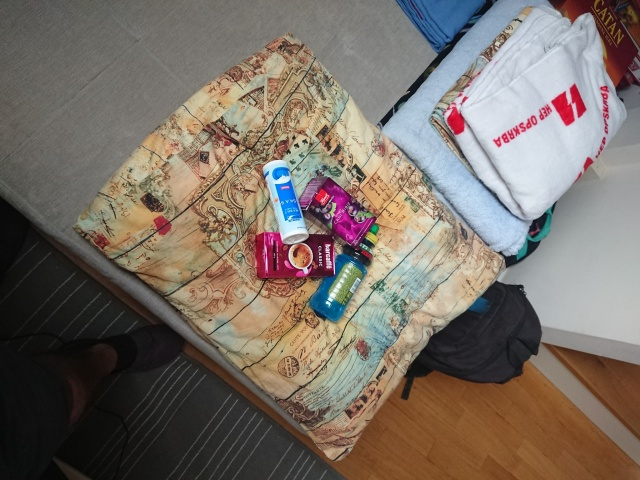Barcaffe Classic Original 225g: (252, 230, 339, 282)
Franck Black Currant Tea 60g: (289, 173, 381, 252)
Solana Pag Fine Sea Salt 250g: (261, 158, 311, 246)
Vindi Iso Sport Forest Strawberries 500mL: (307, 222, 381, 324)
